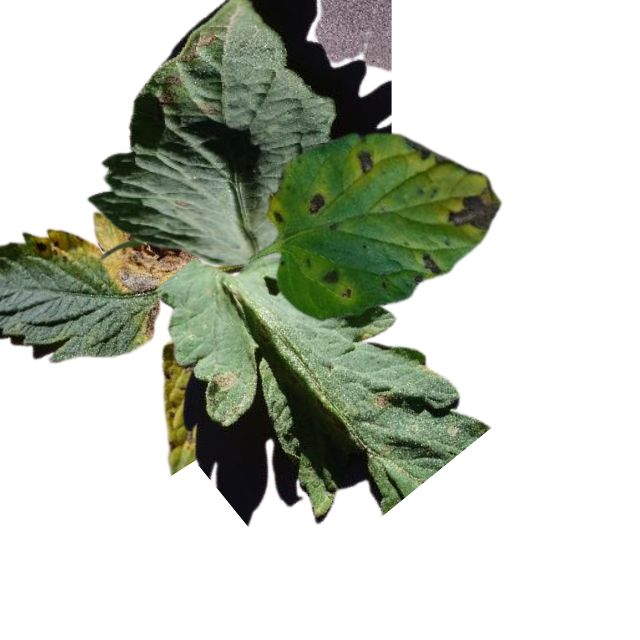Early_blight: (112, 232, 196, 294), (446, 182, 500, 232), (178, 28, 217, 63), (412, 246, 444, 284), (164, 424, 194, 456), (402, 134, 432, 162), (142, 298, 159, 342), (160, 74, 182, 106), (212, 367, 234, 392), (303, 191, 325, 215), (358, 151, 376, 174), (321, 266, 340, 284), (31, 238, 51, 255), (374, 390, 390, 408), (273, 208, 284, 224)
